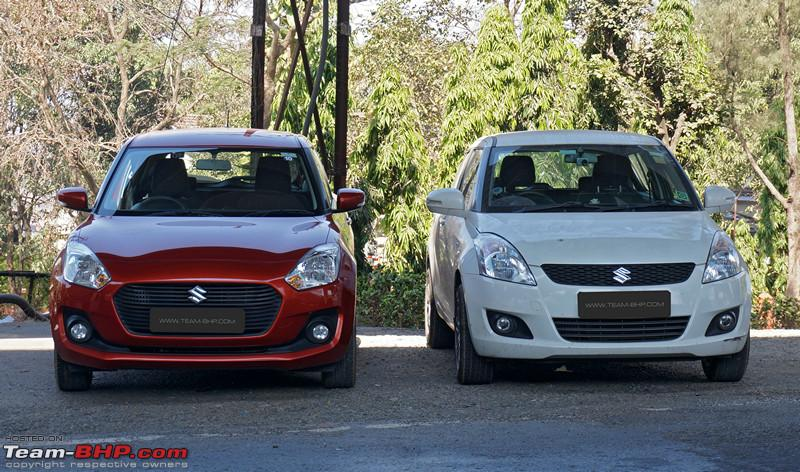car: (18, 93, 383, 425), (403, 89, 776, 413)
